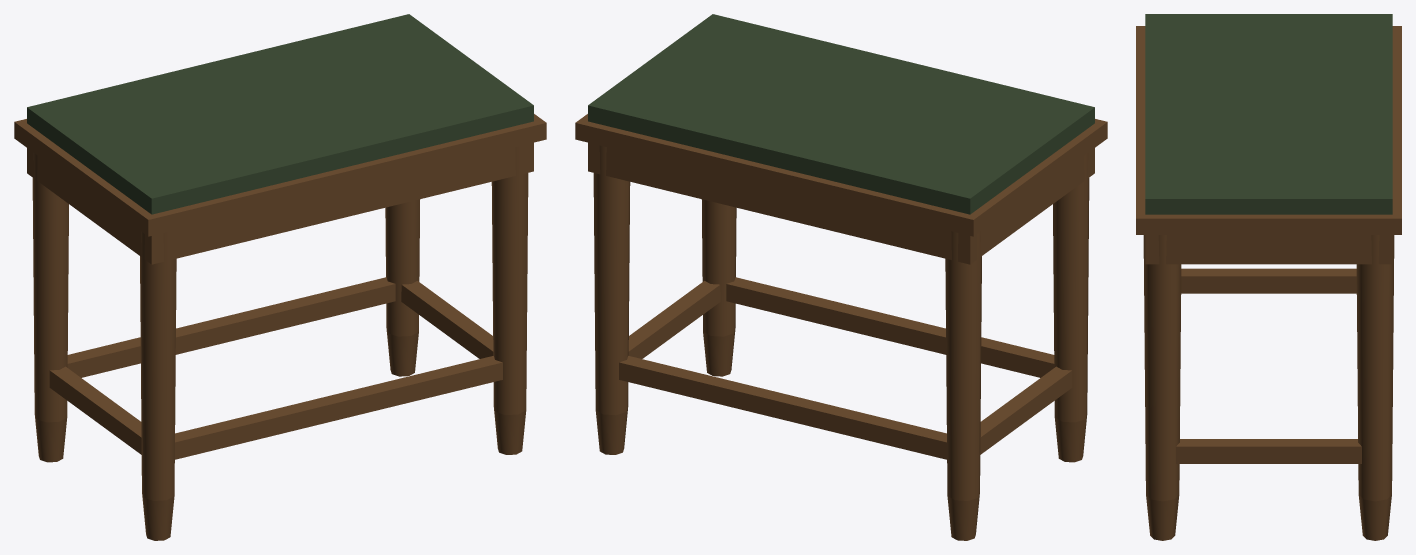
Rendered from parametric-piano-stool-1st-pub.glb.
3 views of the same model, side by side, from view 1: azimuth 30°, elevation 25°; view 2: azimuth 150°, elevation 25°; view 3: azimuth 270°, elevation 25° (orthographic).
Visible parts, largest first — view 1: parametric-piano-stool-1st-pub; view 2: parametric-piano-stool-1st-pub; view 3: parametric-piano-stool-1st-pub.
Boxes of the visible parts, box(x1,y1,x2,y2) form: parametric-piano-stool-1st-pub: box(14, 14, 546, 540); parametric-piano-stool-1st-pub: box(575, 14, 1107, 540); parametric-piano-stool-1st-pub: box(1136, 14, 1401, 540).
Bounding box in the file's own units: 0.6 × 0.5 × 0.35.
